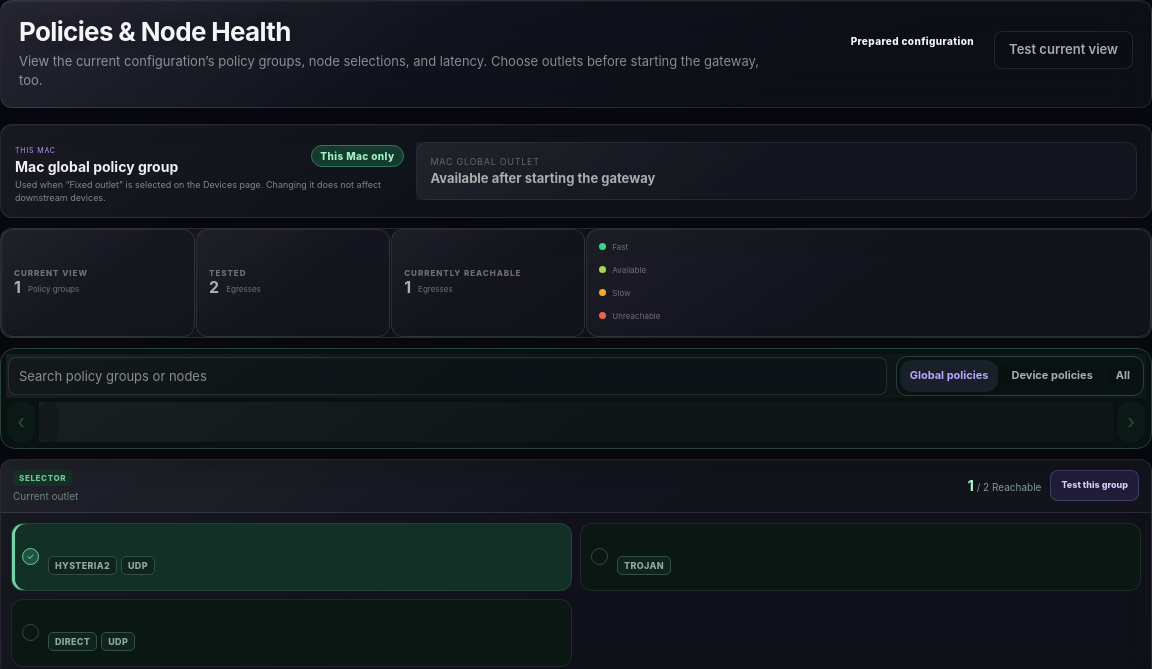
it: PoliciesPage › renders prepared configuration and errors in English
Expected: the text "Prepared configuration" is shown, [843,31,982,51]
Click the button "Test current view" at [1064, 50], box [994,31,1133,69]
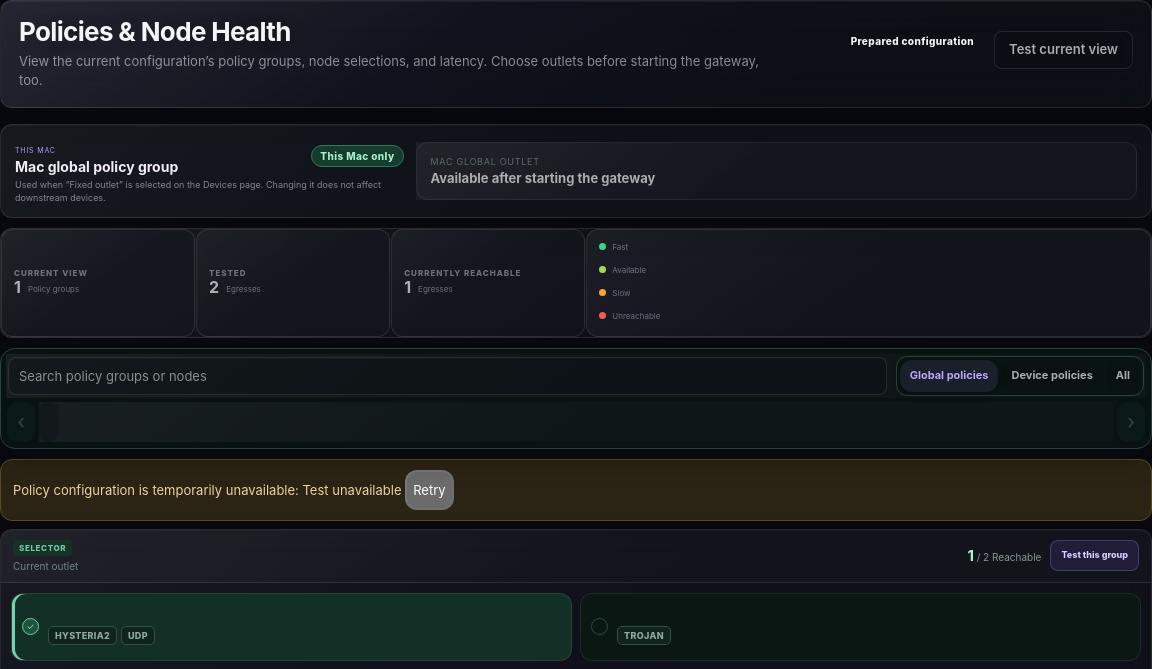
Expected: the message "Policy configuration is temporarily unavailable: Test unavailable Retry" is shown, [0,459,1151,521]
